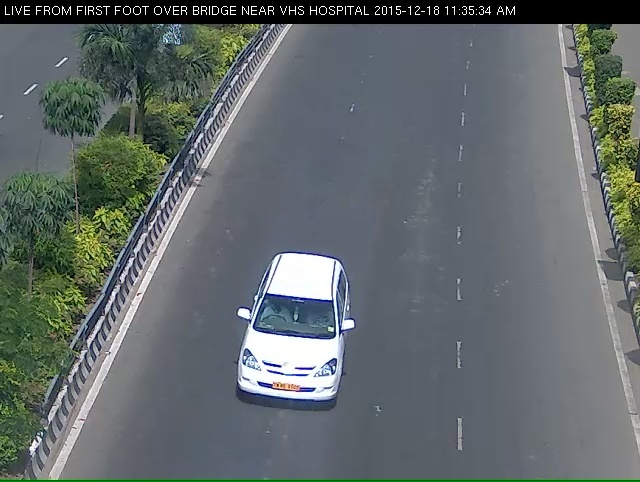Car: (220, 251, 362, 446)
